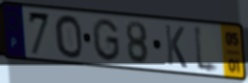7: (26, 10, 53, 56)
8: (124, 21, 150, 66)
G: (91, 17, 122, 63)
K: (163, 23, 189, 70)
L: (192, 22, 222, 77)
O: (53, 14, 84, 60)
